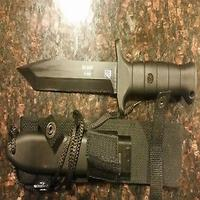knife: (13, 34, 196, 108)
